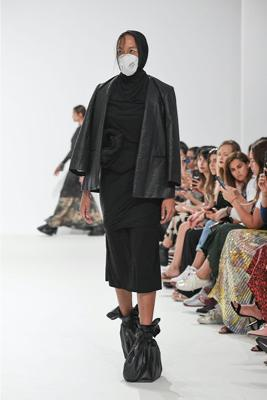with_mask: (116, 46, 139, 77)
without_mask: (229, 163, 247, 183), (248, 156, 260, 177), (217, 151, 230, 169), (198, 157, 208, 173), (208, 158, 217, 175), (185, 155, 194, 170), (71, 112, 77, 123)
